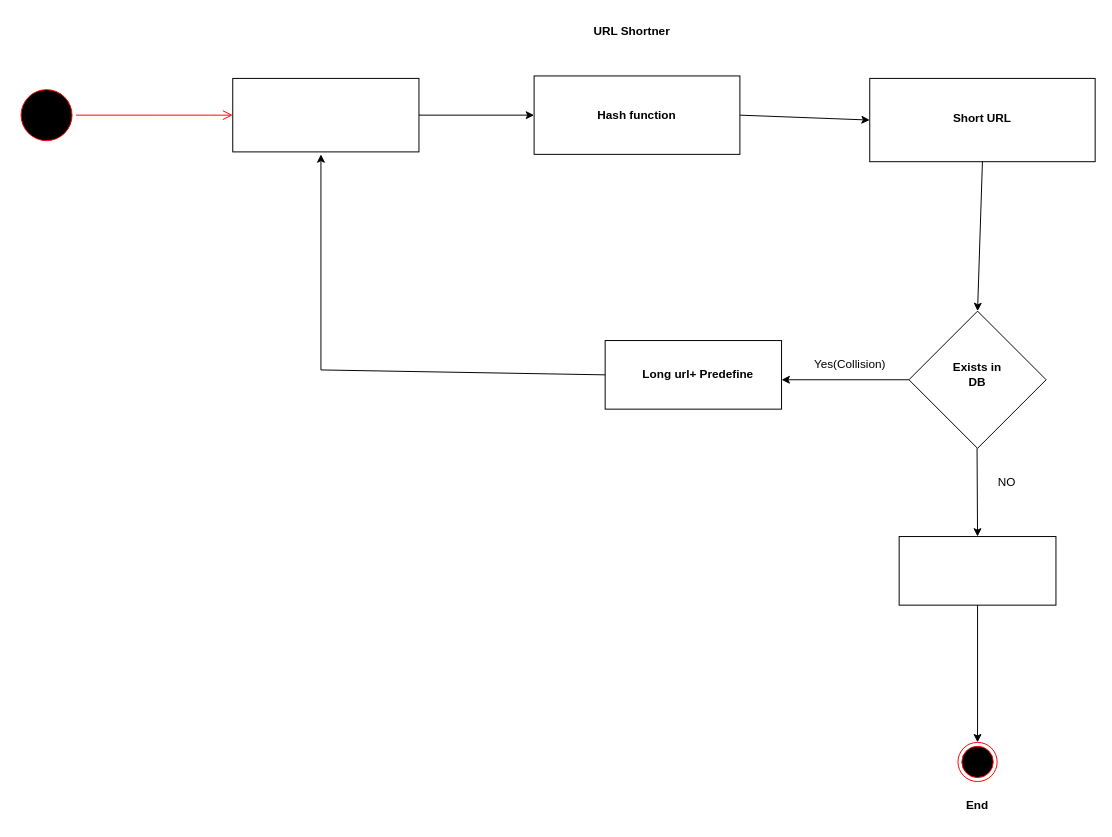
The diagram is 1112 pixels wide and 837 high, and some of its shapes have lost their labels. The box of each missing label's shape, as (x1, y1, x2, y2) in pixels:
Input Long URL: (232, 77, 419, 152)
Save to DB: (898, 536, 1056, 605)
